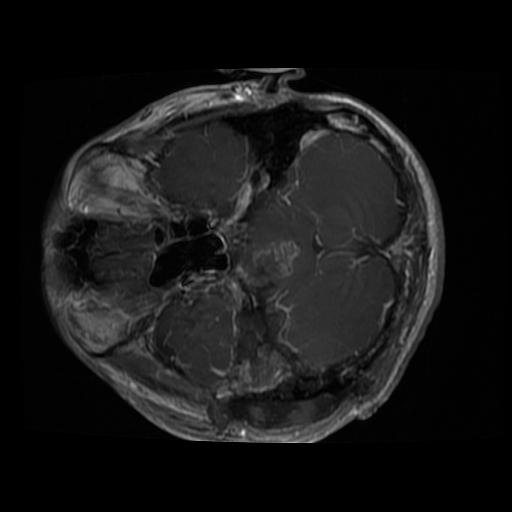glioma: (250, 237, 300, 279)
